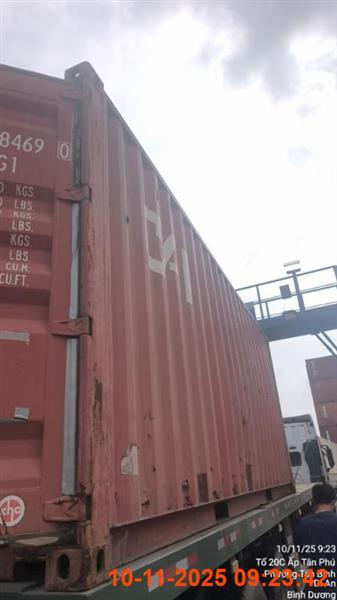hole: (0, 60, 316, 596), (292, 482, 336, 599)
